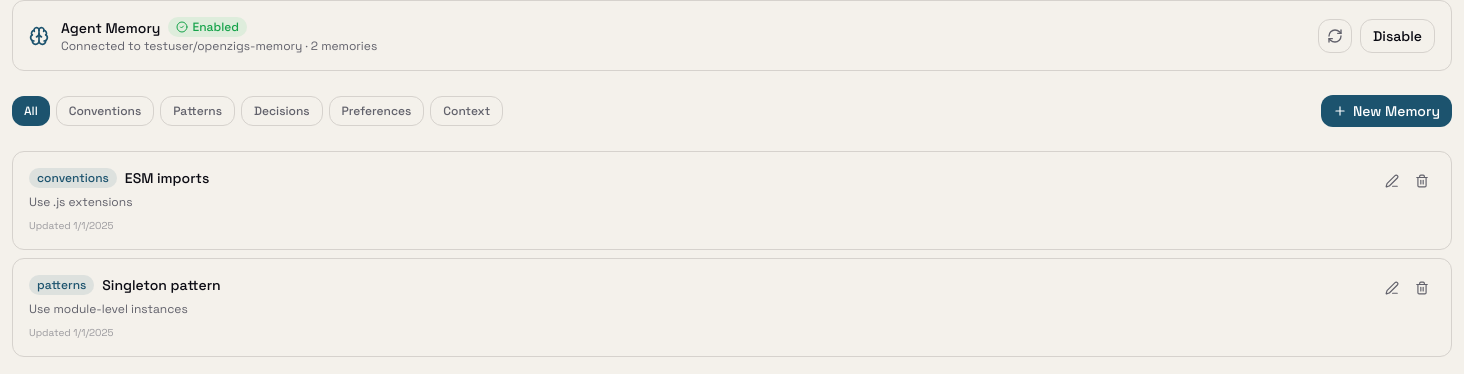
Test: MemoryPanel › filters memories by category
Expected: the heading "ESM imports" is shown, [125, 168, 209, 188]
Expected: the heading "Singleton pattern" is shown, [102, 275, 221, 295]
Note: Filter to conventions only
Click the button "Conventions". click: (105, 111)
box: [56, 96, 154, 126]
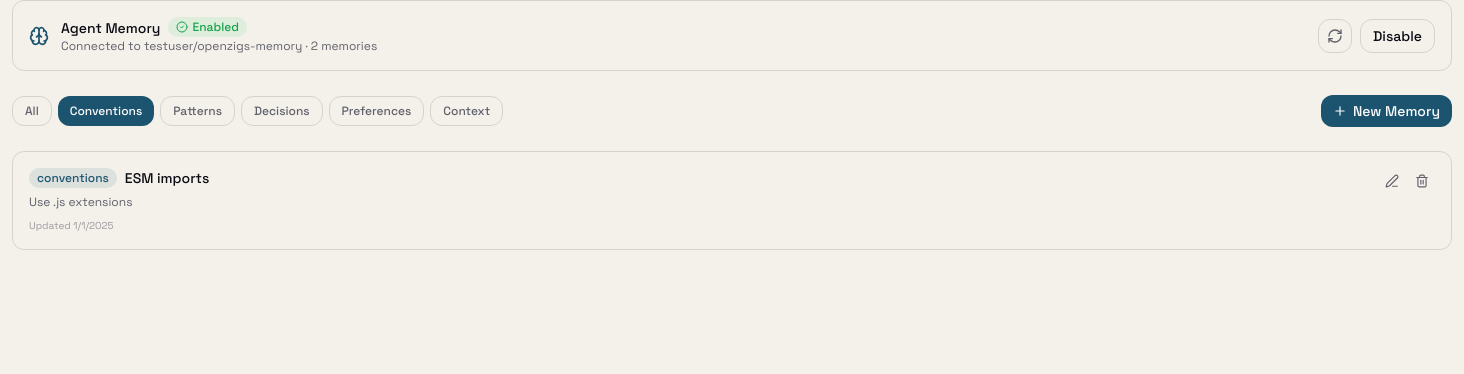
Expected: the heading "ESM imports" is shown, [125, 168, 209, 188]
Now the heading "Singleton pattern" is gone
